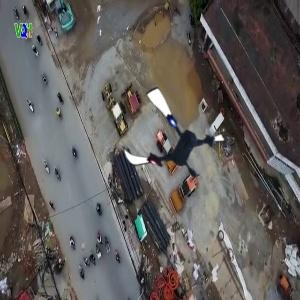drone: (118, 88, 224, 194)
